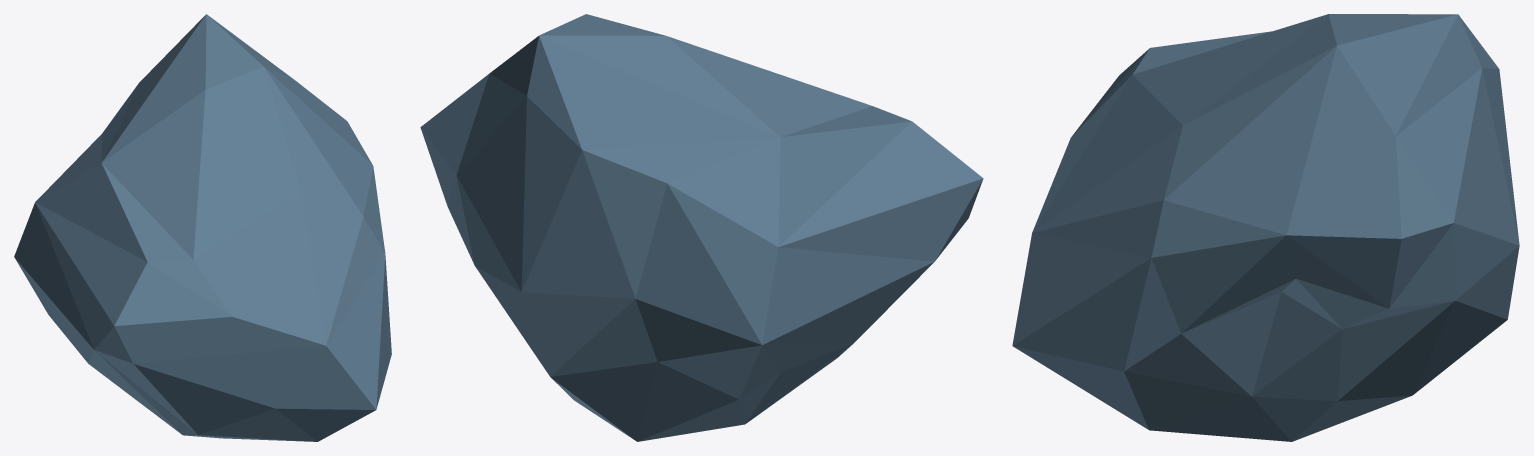
The model's file is Rock_01.fbx.
The picture shows the model from 3 angles, left to right: view 1: azimuth 30°, elevation 25°; view 2: azimuth 150°, elevation 25°; view 3: azimuth 270°, elevation 25°; orthographic projection. The views are drawn at different scales.
Parts seen in each view (by area): view 1: Rock_01; view 2: Rock_01; view 3: Rock_01.
Boxes of the visible parts, box(x1,y1,x2,y2) form: Rock_01: box(14, 14, 391, 441); Rock_01: box(420, 14, 983, 441); Rock_01: box(1012, 14, 1519, 441).
Bounding box in the file's own units: 191 × 185 × 192.
